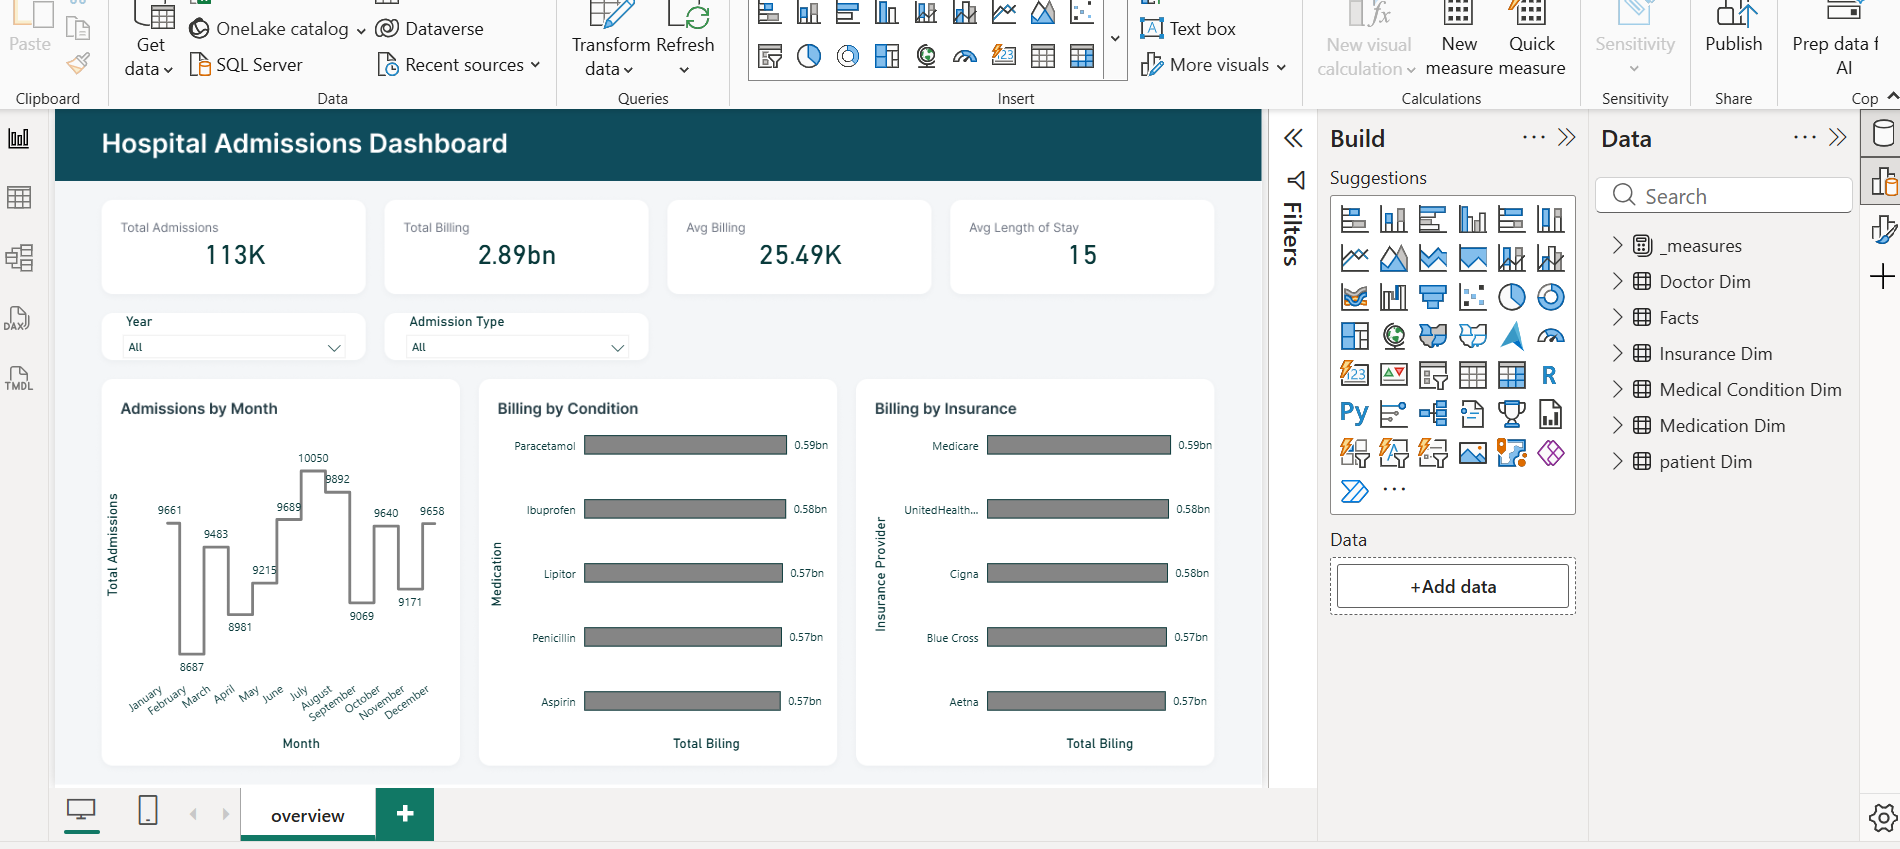

This screenshot's page, from the dashboard's own definition file:
{"tool":"powerbi","page":{"name":"overview","canvas":[1280,720],"ordinal":0},"visuals":[{"type":"group","id":"g1","title":"Group 1","box":[48.6,115.4,1182.8,83],"z":0},{"type":"cardVisual","fields":{"Data":["_measures.Total Admissions"]},"box":[48.6,115.4,283.5,83],"z":0,"group":"g1"},{"type":"cardVisual","fields":{"Data":["_measures.Avg Length of Stay"]},"box":[947.8,115.4,283.5,83],"z":1000,"group":"g1"},{"type":"slicer","fields":{"Values":["Facts.Date of Admission.Variation.Date Hierarchy.Year"]},"box":[61.2,211.2,256.2,56.2],"z":1000},{"type":"cardVisual","fields":{"Data":["_measures.Total Biling"]},"box":[348.3,115.4,283.5,83],"z":2000,"group":"g1"},{"type":"slicer","fields":{"Values":["Facts.Admission Type"]},"box":[362.5,211.2,256.2,56.2],"z":2000},{"type":"cardVisual","fields":{"Data":["_measures.Avg Billing"]},"box":[648.1,115.4,283.5,83],"z":3000,"group":"g1"},{"type":"clusteredBarChart","fields":{"Category":["Insurance Dim.Insurance Provider"],"Y":["_measures.Total Biling"]},"box":[861.7,305,370,380],"z":4001},{"type":"clusteredBarChart","fields":{"Category":["Medication Dim.Medication"],"Y":["_measures.Total Biling"]},"box":[455,305,370,380],"z":4002},{"type":"lineChart","fields":{"Category":["Facts.Date of Admission.Variation.Date Hierarchy.Month"],"Y":["_measures.Total Admissions"]},"box":[48.3,305,370,380],"z":4003}]}

Visuals, with their boxes on the page's 1280x720 design canvas (x1, y1, x2, y2). These are canvas units, not pixel positions in the 1900x849 screenshot, which may show the page scaled, cropped or inside an application window:
"Group 1" group: (x1=49, y1=115, x2=1231, y2=198)
cardVisual - _measures.Total Admissions: (x1=49, y1=115, x2=332, y2=198)
cardVisual - _measures.Avg Length of Stay: (x1=948, y1=115, x2=1231, y2=198)
slicer - Facts.Date of Admission.Variation.Date Hierarchy.Year: (x1=61, y1=211, x2=317, y2=267)
cardVisual - _measures.Total Biling: (x1=348, y1=115, x2=632, y2=198)
slicer - Facts.Admission Type: (x1=362, y1=211, x2=619, y2=267)
cardVisual - _measures.Avg Billing: (x1=648, y1=115, x2=932, y2=198)
clusteredBarChart - Insurance Dim.Insurance Provider x _measures.Total Biling: (x1=862, y1=305, x2=1232, y2=685)
clusteredBarChart - Medication Dim.Medication x _measures.Total Biling: (x1=455, y1=305, x2=825, y2=685)
lineChart - Facts.Date of Admission.Variation.Date Hierarchy.Month x _measures.Total Admissions: (x1=48, y1=305, x2=418, y2=685)
